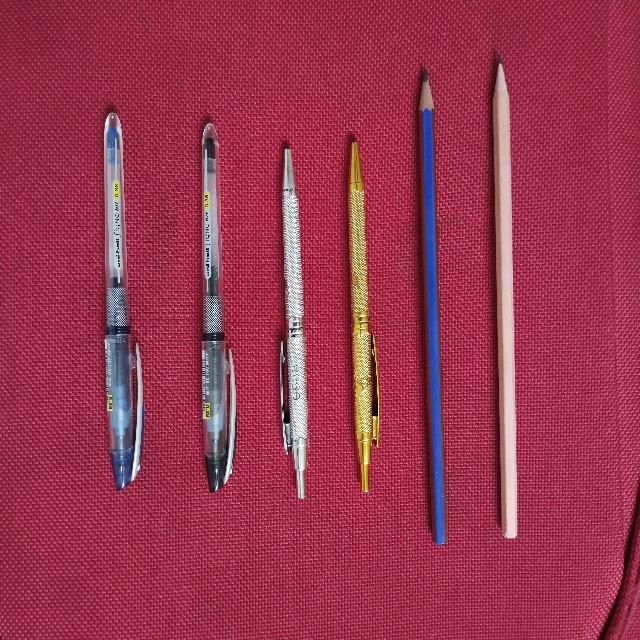pen: (104, 113, 143, 488), (202, 124, 236, 491)
pencil: (419, 71, 445, 543), (493, 56, 516, 537)
signature pen: (349, 141, 379, 491), (280, 148, 307, 498)
